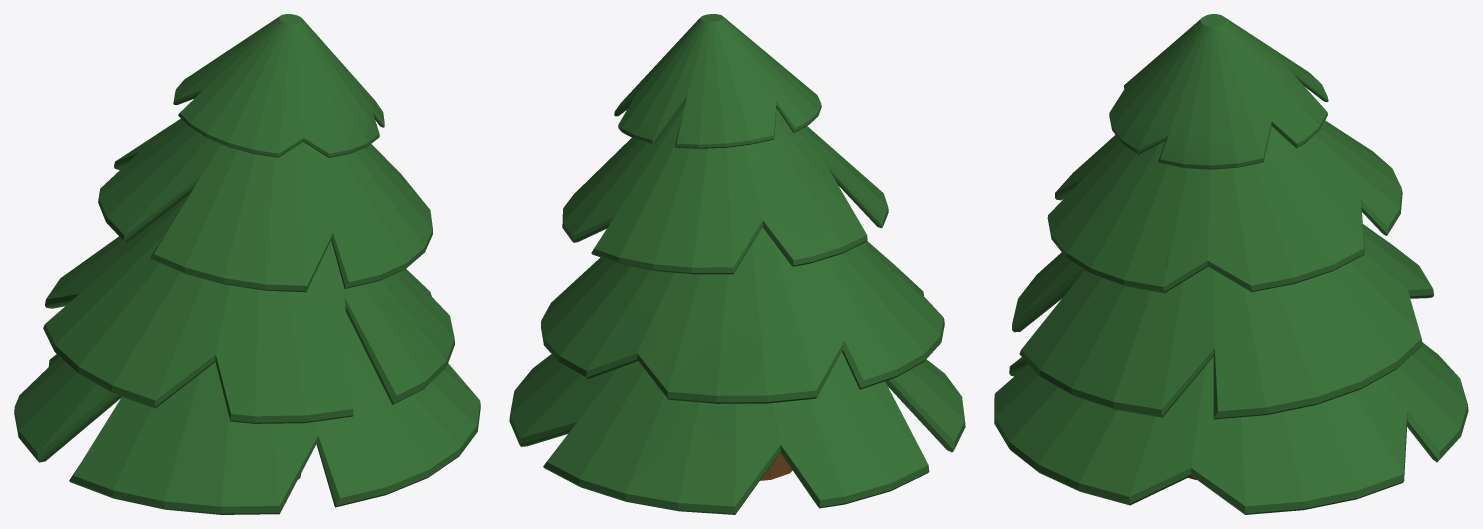
The model's file is tree 1.fbx.
3 views of the same model, side by side, from view 1: azimuth 30°, elevation 25°; view 2: azimuth 150°, elevation 25°; view 3: azimuth 270°, elevation 25° (orthographic). The views are drawn at different scales.
Visible parts, largest first — view 1: Cylinder; view 2: Cylinder; view 3: Cylinder.
Part boxes in pixels (left/top/right/bottom): Cylinder: left=14, top=14, right=480, bottom=514; Cylinder: left=509, top=14, right=965, bottom=514; Cylinder: left=994, top=14, right=1468, bottom=514.
Bounding box in the file's own units: 2.58 × 2.69 × 2.52.
Materials: 1 (1 with a texture image).
